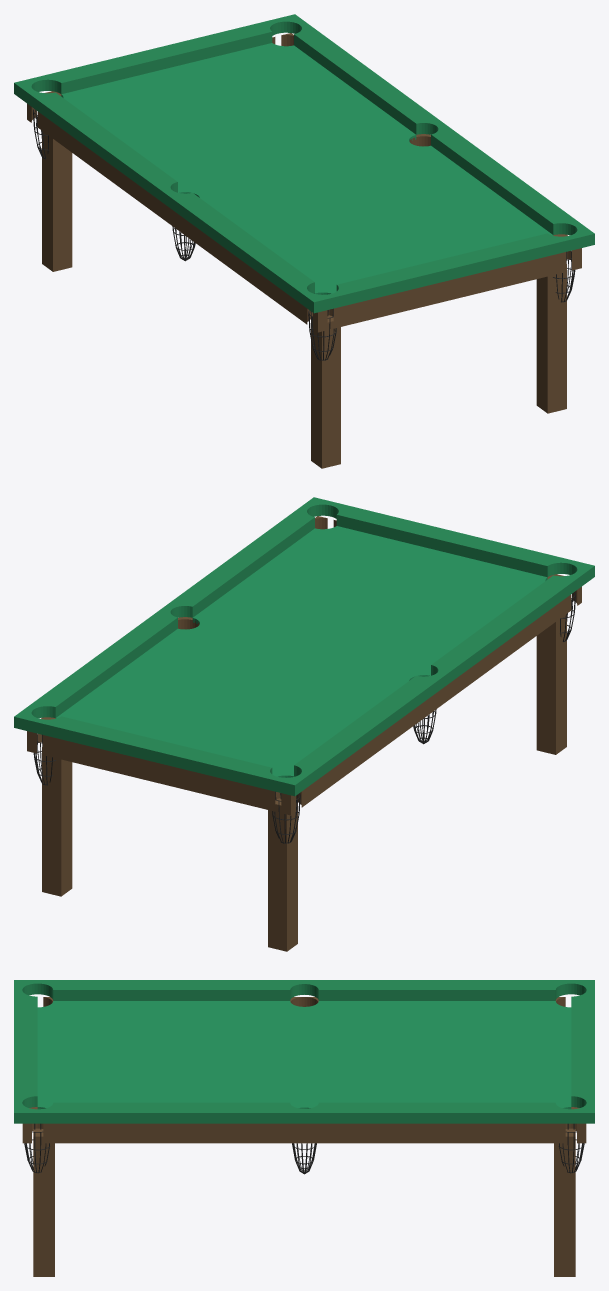
The model's file is billard-table.glb.
The picture shows the model from 3 angles, top to bottom: view 1: azimuth 30°, elevation 25°; view 2: azimuth 150°, elevation 25°; view 3: azimuth 270°, elevation 25°; orthographic projection. The views are drawn at different scales.
Visible parts, largest first — view 1: Felt-col, Apron-col, Rail_Left-col, Rail_Right-col, Rail_Near-col, Rail_Far-col, Leg_1_-1-col, Leg_-1_-1-col, Leg_-1_1-col; view 2: Felt-col, Apron-col, Rail_Left-col, Rail_Right-col, Rail_Far-col, Rail_Near-col, Leg_1_1-col, Leg_-1_1-col, Leg_-1_-1-col; view 3: Felt-col, Rail_Right-col, Apron-col, Rail_Left-col, Leg_1_-1-col, Leg_1_1-col, Rail_Near-col, Rail_Far-col, Net_Side_1, Net_Corner_1_-1, Net_Corner_1_1.
Part boxes in pixels (left/top/right/bottom): Felt-col: left=61, top=43, right=553, bottom=294; Apron-col: left=27, top=33, right=581, bottom=332; Rail_Left-col: left=14, top=77, right=335, bottom=313; Rail_Right-col: left=274, top=14, right=594, bottom=249; Rail_Near-col: left=331, top=233, right=573, bottom=307; Rail_Far-col: left=35, top=19, right=277, bottom=94; Leg_1_-1-col: left=536, top=264, right=566, bottom=413; Leg_-1_-1-col: left=311, top=315, right=340, bottom=468; Leg_-1_1-col: left=42, top=131, right=72, bottom=271; Felt-col: left=55, top=526, right=547, bottom=777; Apron-col: left=27, top=516, right=581, bottom=815; Rail_Left-col: left=273, top=560, right=594, bottom=796; Rail_Right-col: left=14, top=497, right=334, bottom=732; Rail_Far-col: left=35, top=716, right=277, bottom=790; Rail_Near-col: left=331, top=502, right=573, bottom=577; Leg_1_1-col: left=42, top=747, right=72, bottom=896; Leg_-1_1-col: left=268, top=798, right=297, bottom=951; Leg_-1_-1-col: left=536, top=614, right=566, bottom=754; Felt-col: left=37, top=1001, right=571, bottom=1109; Rail_Right-col: left=14, top=1102, right=594, bottom=1123; Apron-col: left=22, top=997, right=586, bottom=1143; Rail_Left-col: left=14, top=980, right=594, bottom=1000; Leg_1_-1-col: left=33, top=1128, right=54, bottom=1276; Leg_1_1-col: left=554, top=1128, right=575, bottom=1276; Rail_Near-col: left=14, top=990, right=37, bottom=1107; Rail_Far-col: left=571, top=990, right=594, bottom=1107; Net_Side_1: left=292, top=1143, right=316, bottom=1174; Net_Corner_1_-1: left=24, top=1123, right=50, bottom=1173; Net_Corner_1_1: left=558, top=1123, right=584, bottom=1173.
Bounding box in the file's own units: 1.32 × 0.8 × 2.44.
